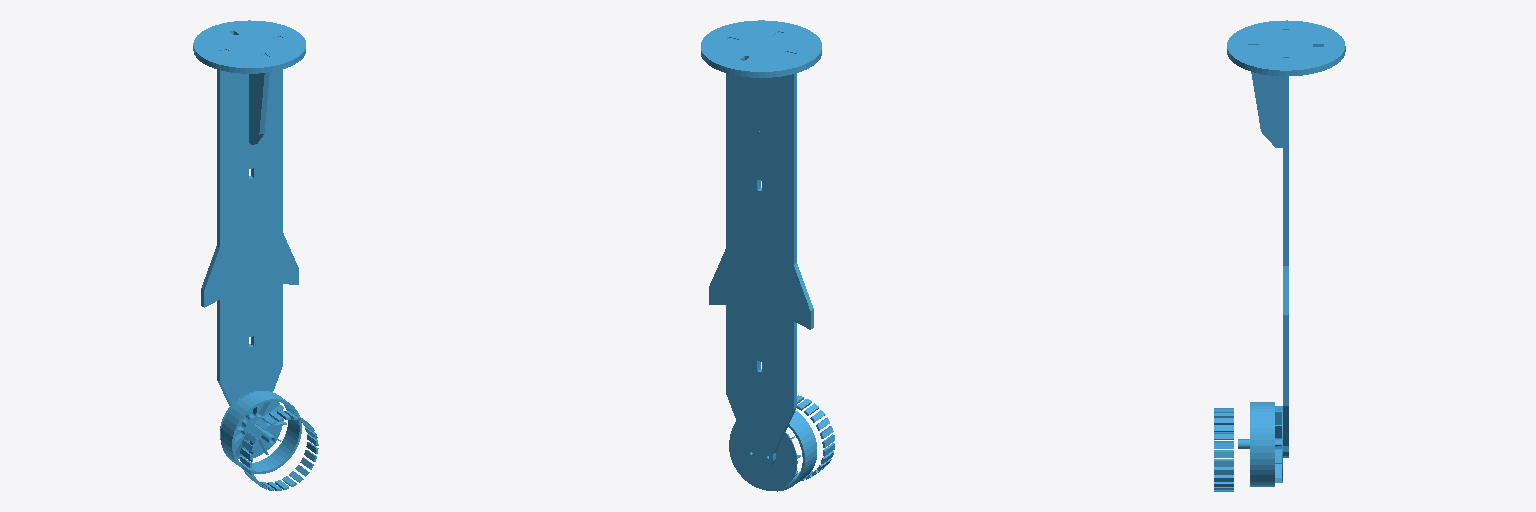
The robot description file, URDF, robot "pendulum_assembly":
<?xml version="1.0" ?>
<robot name="pendulum_assembly">
  <link name="base_link">
    <inertial>
      <origin xyz="0 0 0" rpy="0 0 0"/>
      <mass value="0.001"/>
      <inertia ixx="1e-6" iyy="1e-6" izz="1e-6" ixy="0" ixz="0" iyz="0"/>
    </inertial>
  </link>
  <link name="pendulum_link">
    <inertial>
      <origin xyz="-0.000000 -0.011221 0.088309" rpy="0 0 0"/>
      <mass value="0.193058"/>
      <inertia ixx="1e-6" iyy="4.923982e-03" izz="1e-6" ixy="0.0" ixz="0.0" iyz="0.0"/>
    </inertial>
    <visual>
      <origin xyz="0 0 0" rpy="0 0 0"/>
      <geometry>
        <mesh filename="housing.stl" scale="0.001 0.001 0.001"/>
      </geometry>
    </visual>
    <collision>
      <origin xyz="0 0 0" rpy="0 0 0"/>
      <geometry>
        <mesh filename="housing.stl" scale="0.001 0.001 0.001"/>
      </geometry>
    </collision>
    <visual>
      <origin xyz="0 0 0" rpy="0 0 0"/>
      <geometry>
        <mesh filename="wood.stl" scale="0.001 0.001 0.001"/>
      </geometry>
    </visual>
    <collision>
      <origin xyz="0 0 0" rpy="0 0 0"/>
      <geometry>
        <mesh filename="wood.stl" scale="0.001 0.001 0.001"/>
      </geometry>
    </collision>
    <visual>
      <origin xyz="0 0 0" rpy="0 0 0"/>
      <geometry>
        <mesh filename="steel.stl" scale="0.001 0.001 0.001"/>
      </geometry>
    </visual>
    <collision>
      <origin xyz="0 0 0" rpy="0 0 0"/>
      <geometry>
        <mesh filename="steel.stl" scale="0.001 0.001 0.001"/>
      </geometry>
    </collision>
    <visual>
      <origin xyz="0 0 0" rpy="0 0 0"/>
      <geometry>
        <mesh filename="aluminum.stl" scale="0.001 0.001 0.001"/>
      </geometry>
    </visual>
    <collision>
      <origin xyz="0 0 0" rpy="0 0 0"/>
      <geometry>
        <mesh filename="aluminum.stl" scale="0.001 0.001 0.001"/>
      </geometry>
    </collision>
    <visual>
      <origin xyz="0 0 0" rpy="0 0 0"/>
      <geometry>
        <mesh filename="neodynium.stl" scale="0.001 0.001 0.001"/>
      </geometry>
    </visual>
    <collision>
      <origin xyz="0 0 0" rpy="0 0 0"/>
      <geometry>
        <mesh filename="neodynium.stl" scale="0.001 0.001 0.001"/>
      </geometry>
    </collision>
  </link>
  <joint name="pendulum_joint" type="revolute">
    <parent link="base_link"/>
    <child link="pendulum_link"/>
    <origin xyz="0.000000 0.000000 0.045138" rpy="0 0 0"/>
    <axis xyz="0.0 1.0 0.0"/>
    <limit lower="-3.1416" upper="3.1416" effort="1" velocity="1"/>
  </joint>
</robot>

--- Render facts (derived) ---
3 views of the same robot in one strip: view 1: azimuth 30°, elevation 25°; view 2: azimuth 150°, elevation 25°; view 3: azimuth 270°, elevation 25° (orthographic).
Robot: pendulum_assembly — 2 links, 1 joints (1 revolute); root link base_link; default pose: every joint at zero.
Links seen in each view (by area): view 1: pendulum_link; view 2: pendulum_link; view 3: pendulum_link.
Boxes of the visible links, <box> form: pendulum_link: <box>193,20,318,490</box>; pendulum_link: <box>701,20,834,491</box>; pendulum_link: <box>1214,20,1345,491</box>.
Size in the robot's own frame: 0.0957 by 0.1057 by 0.3935 metres.
Meshes: 5 distinct files referenced, 5 mesh visuals loaded (5 binary STL).